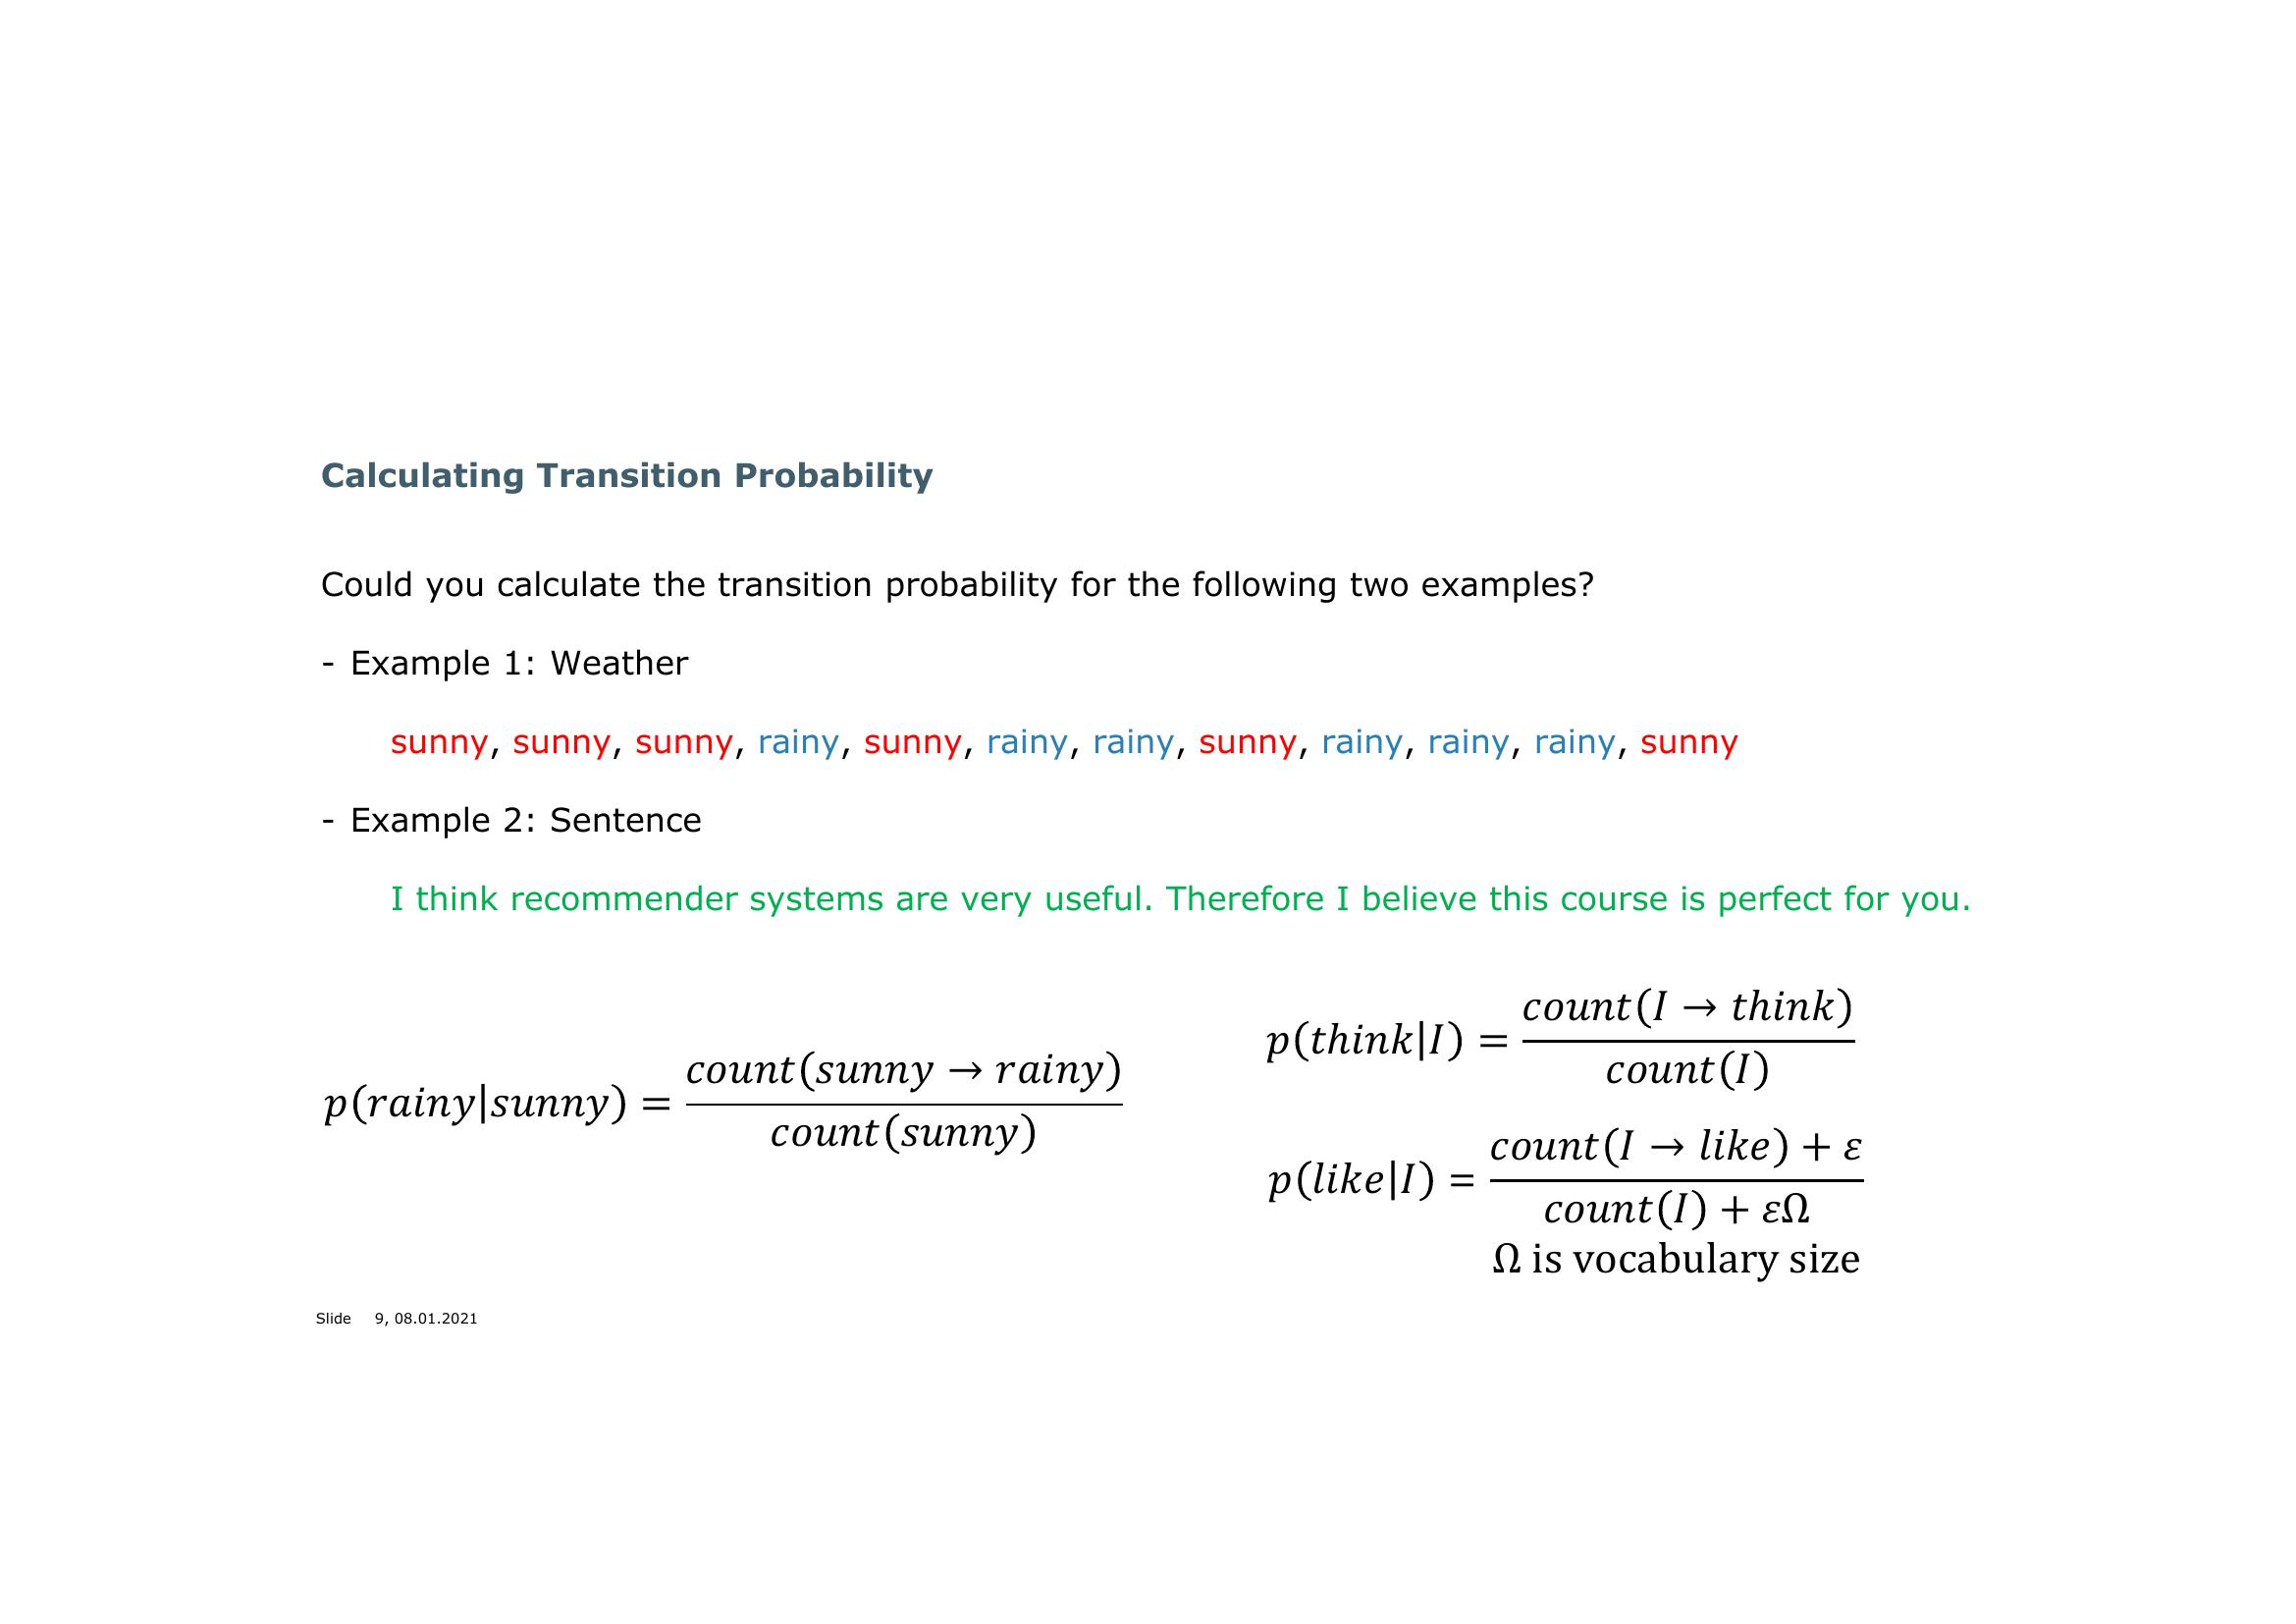Title: (260, 432, 959, 517)
